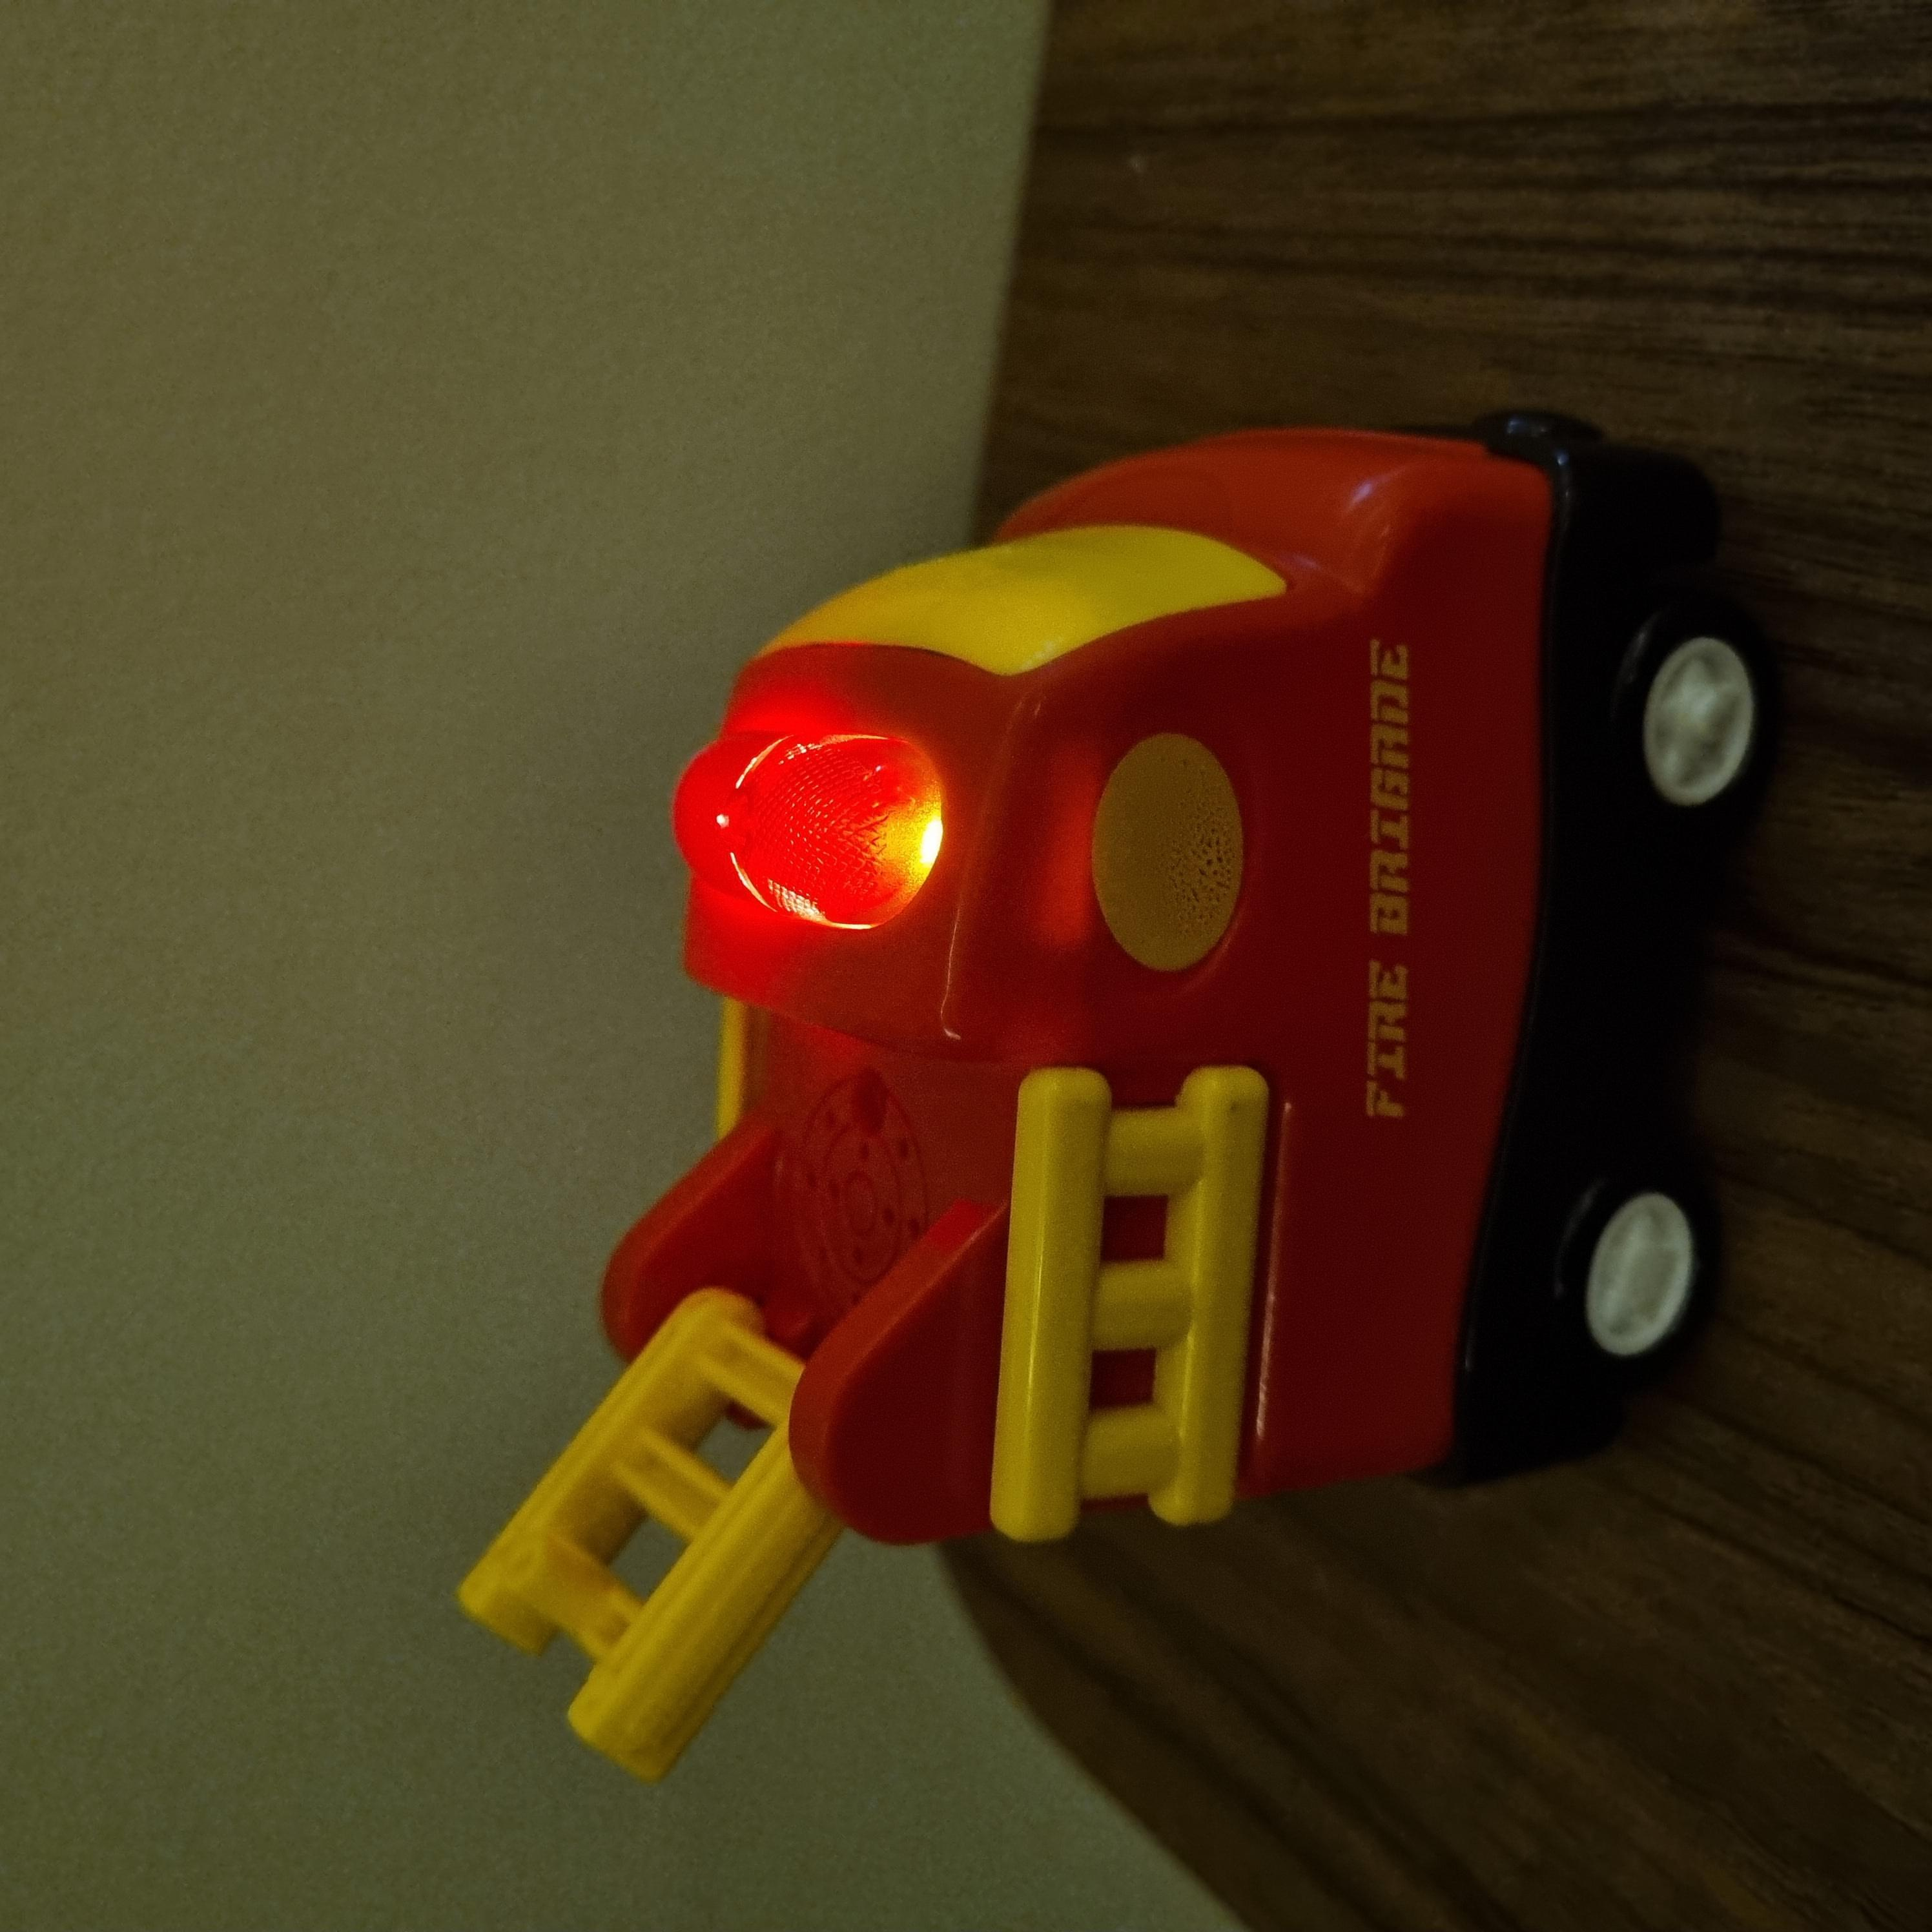firetruck_on: (149, 462, 1523, 1780)
